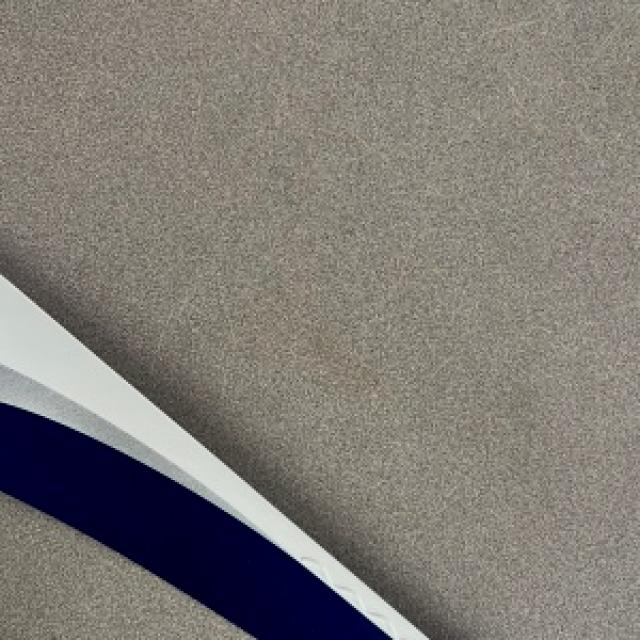healthy: (0, 497, 241, 638)
